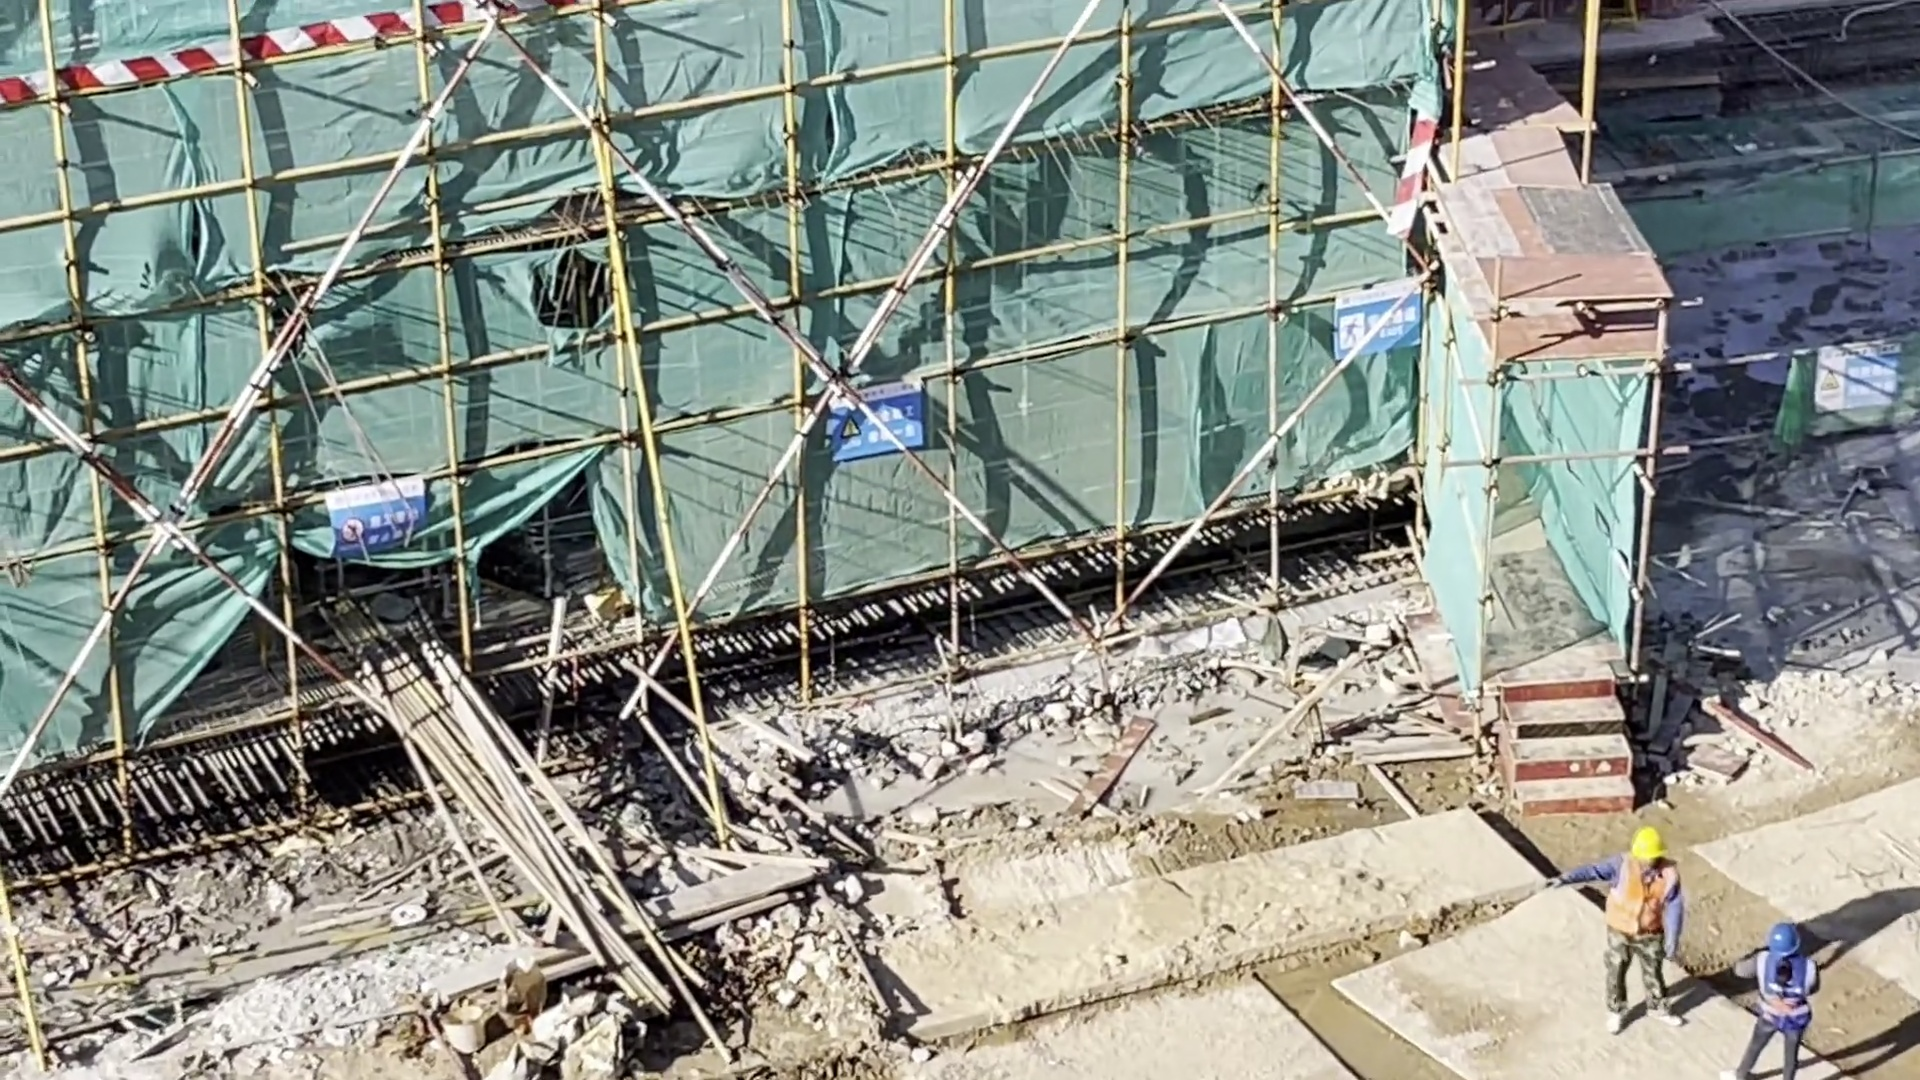helmet: (1618, 816, 1670, 867), (1763, 911, 1808, 967)
person: (1541, 813, 1699, 1045), (1715, 900, 1841, 1080)
slogan: (813, 375, 976, 472), (321, 476, 457, 568), (1318, 279, 1437, 365), (1804, 327, 1906, 420)
vest: (1603, 858, 1675, 943), (1752, 953, 1815, 1020)
